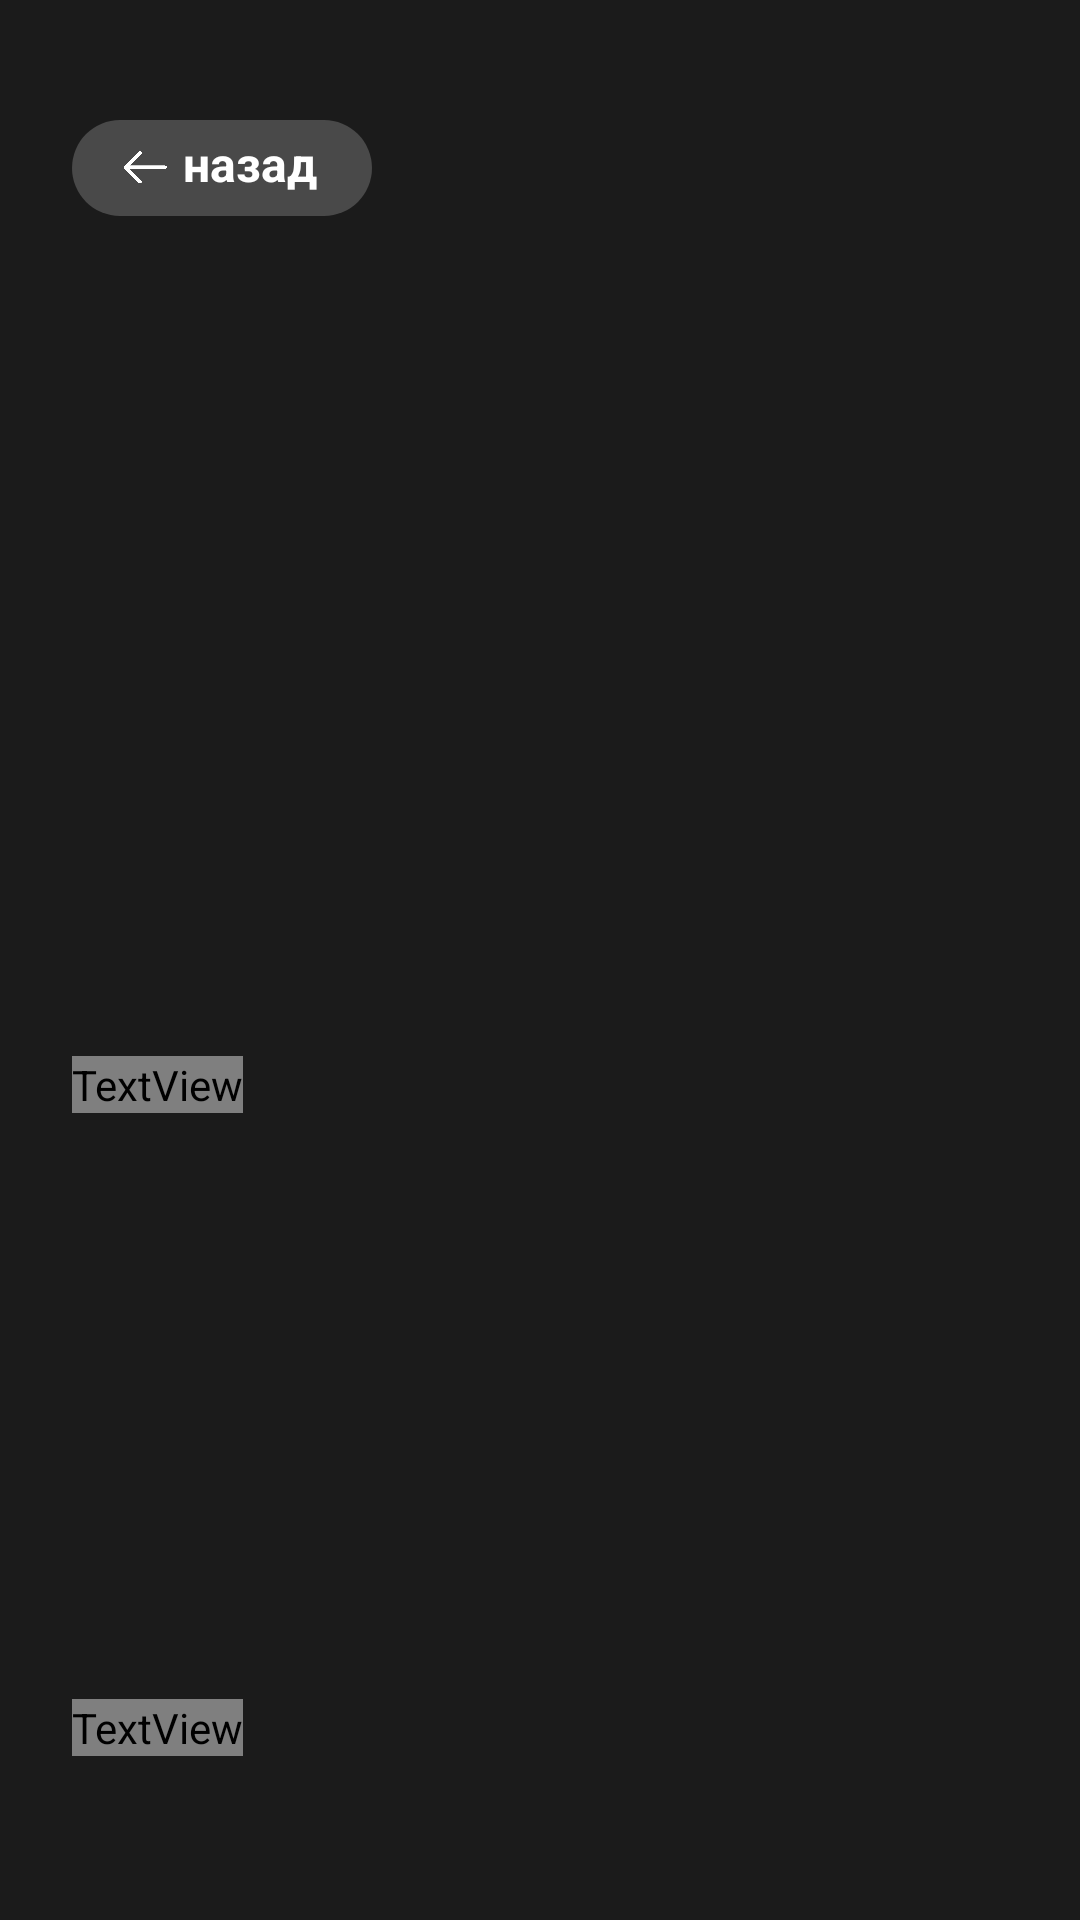

Icon bounding boxes for this 1080px×1920px phone screenshot, format (x1, y1, x2, y2):
back: (124, 151, 167, 183)
